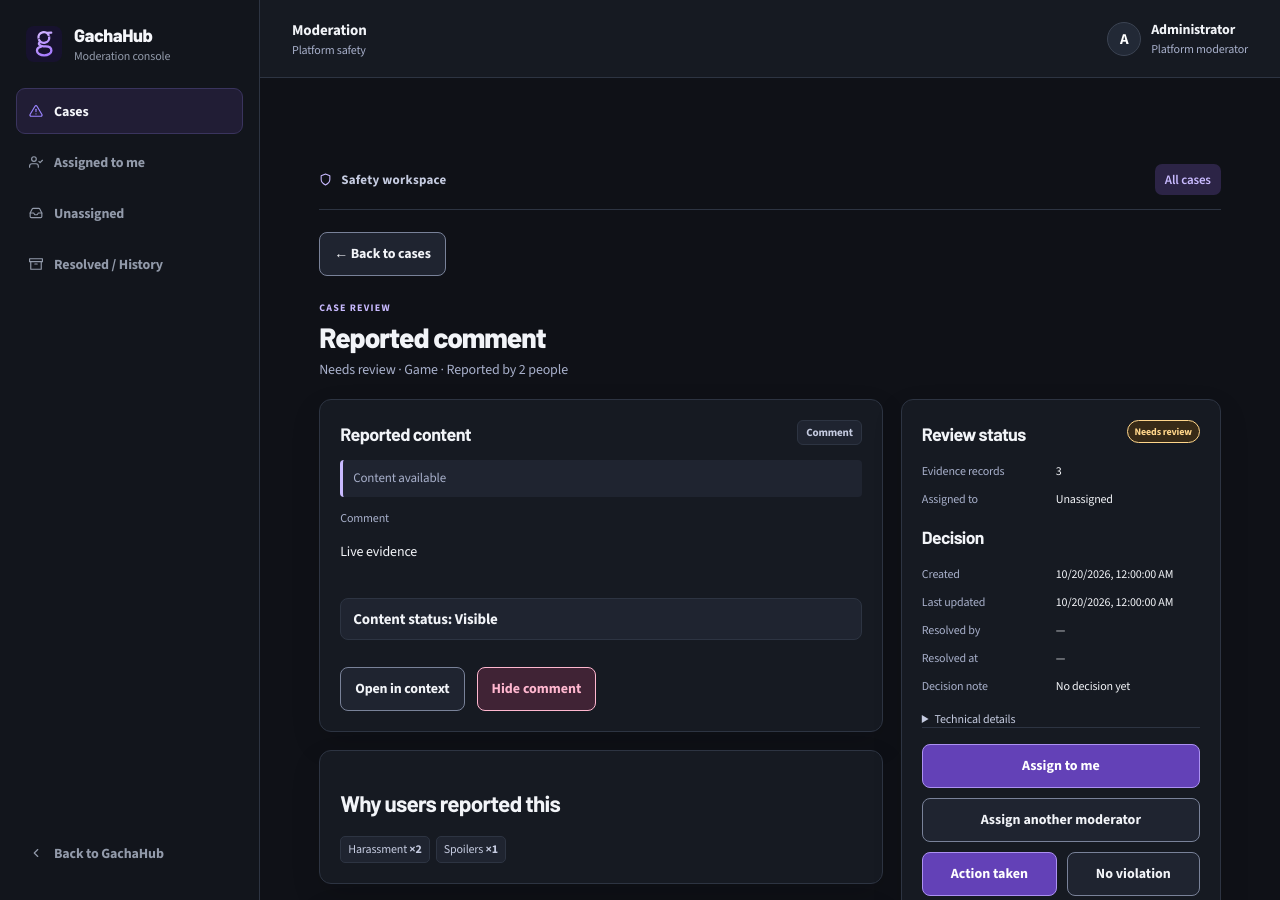
Scenario: opens COMMENT context and confirms hide/restore independently of the case decision
Click the button "Hide comment". click: (536, 689)
box: top-left (476, 667), bottom-right (596, 711)
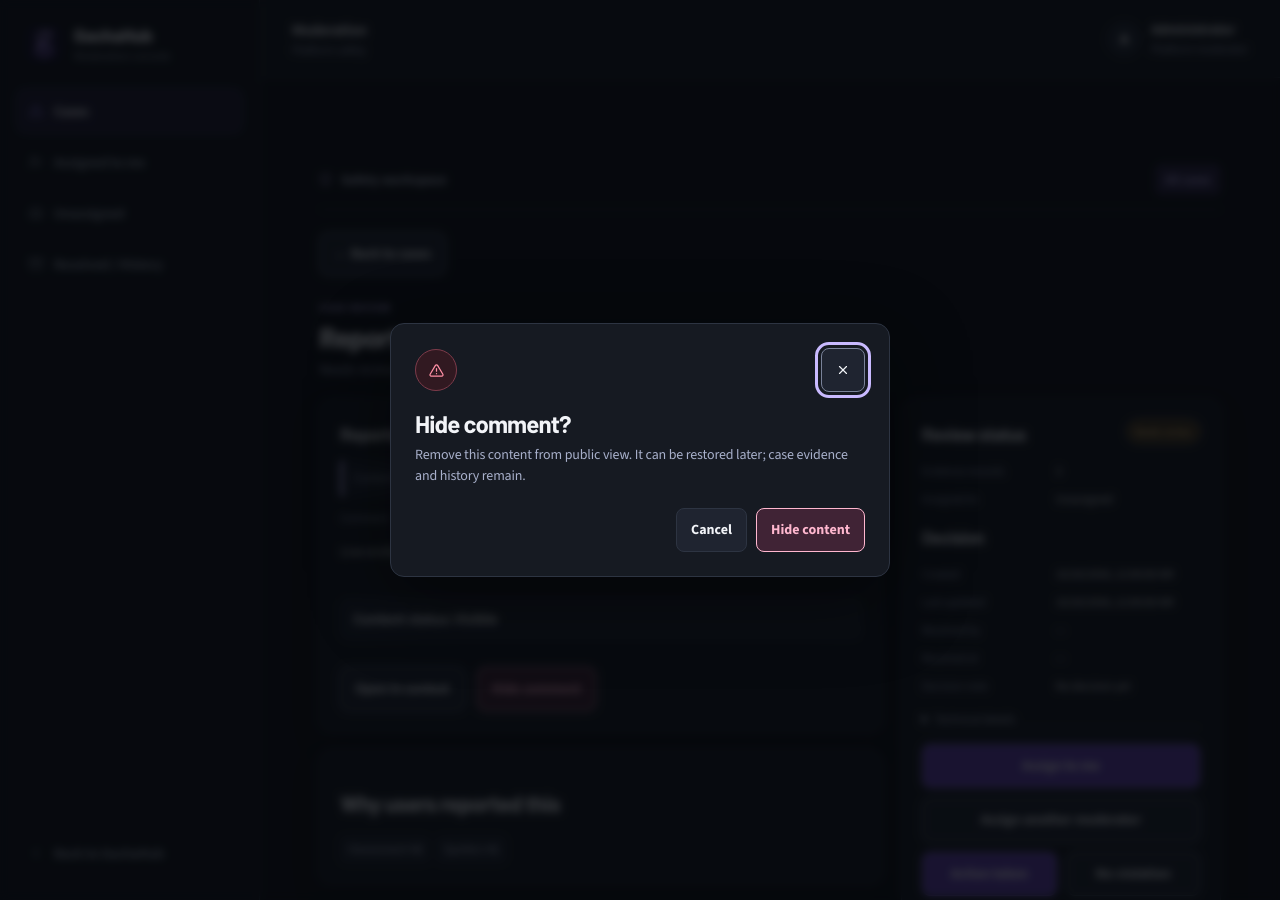
Click the button "Hide content". click: (810, 530)
box: top-left (756, 508), bottom-right (865, 552)
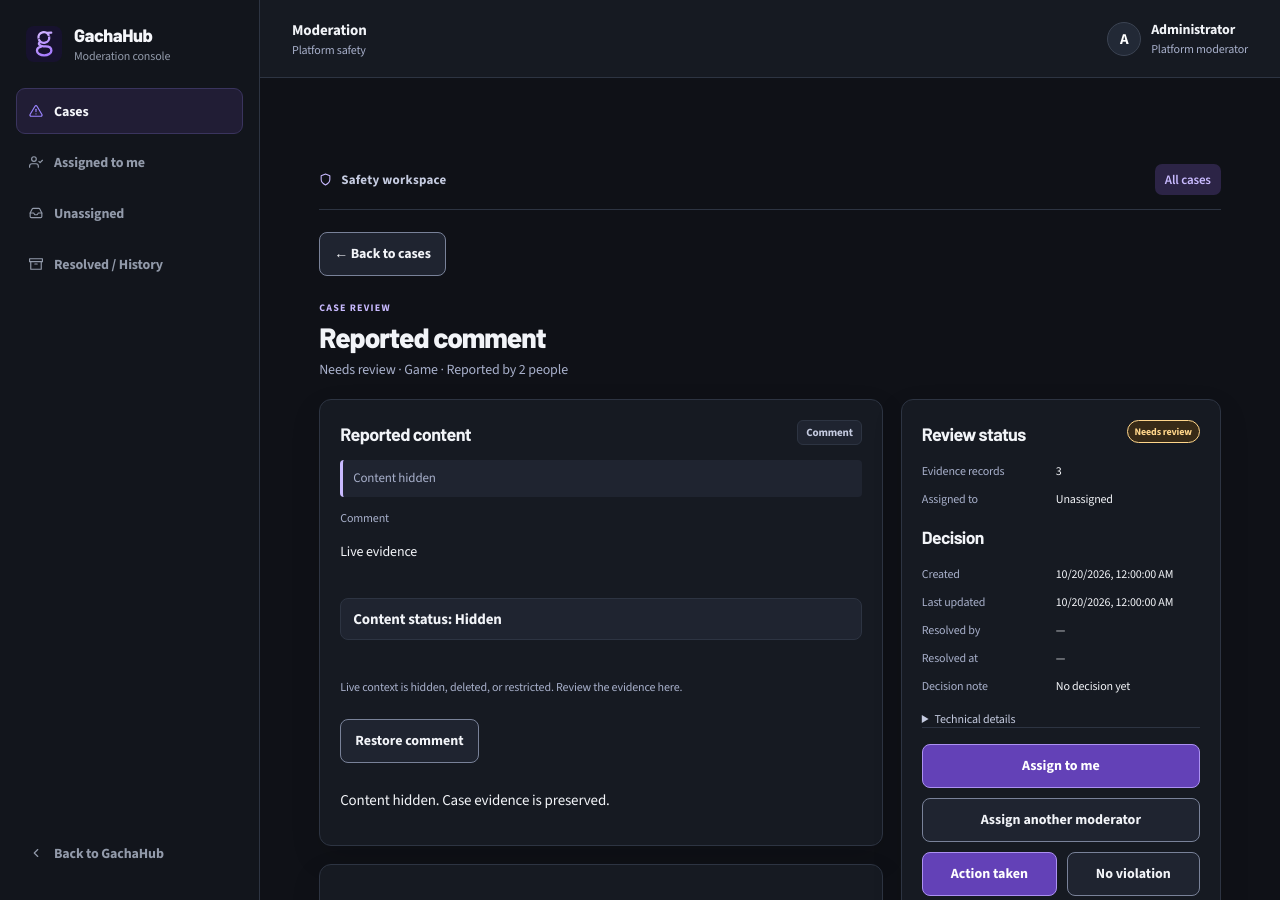
Expected: the text "Content status: Hidden" is shown, top-left (340, 598), bottom-right (862, 640)
Expected: the link "Open in context" is gone
Click the button "Restore comment". click: (409, 741)
box: top-left (340, 719), bottom-right (479, 763)
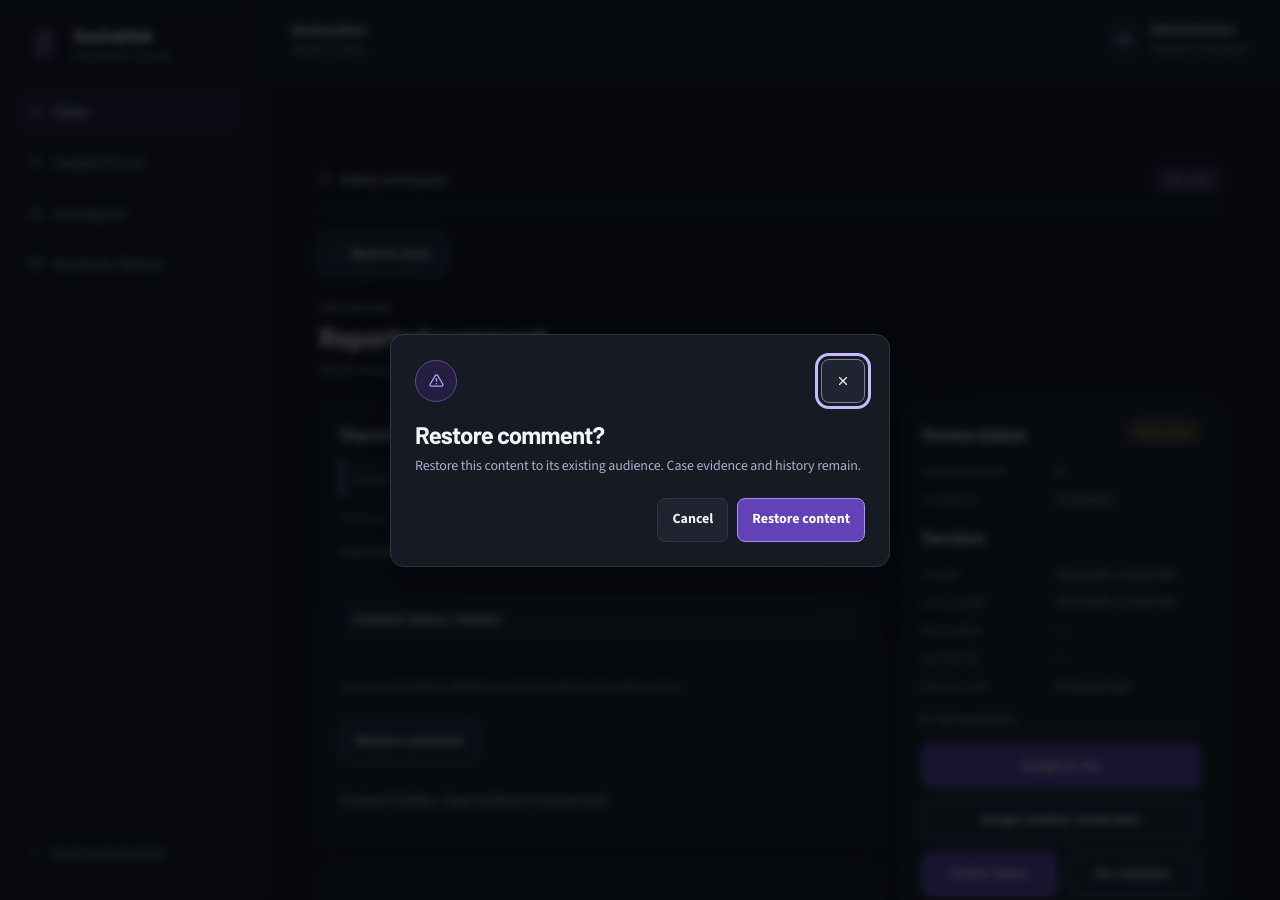
Click the button "Restore content". click: (801, 520)
box: top-left (737, 498), bottom-right (865, 542)
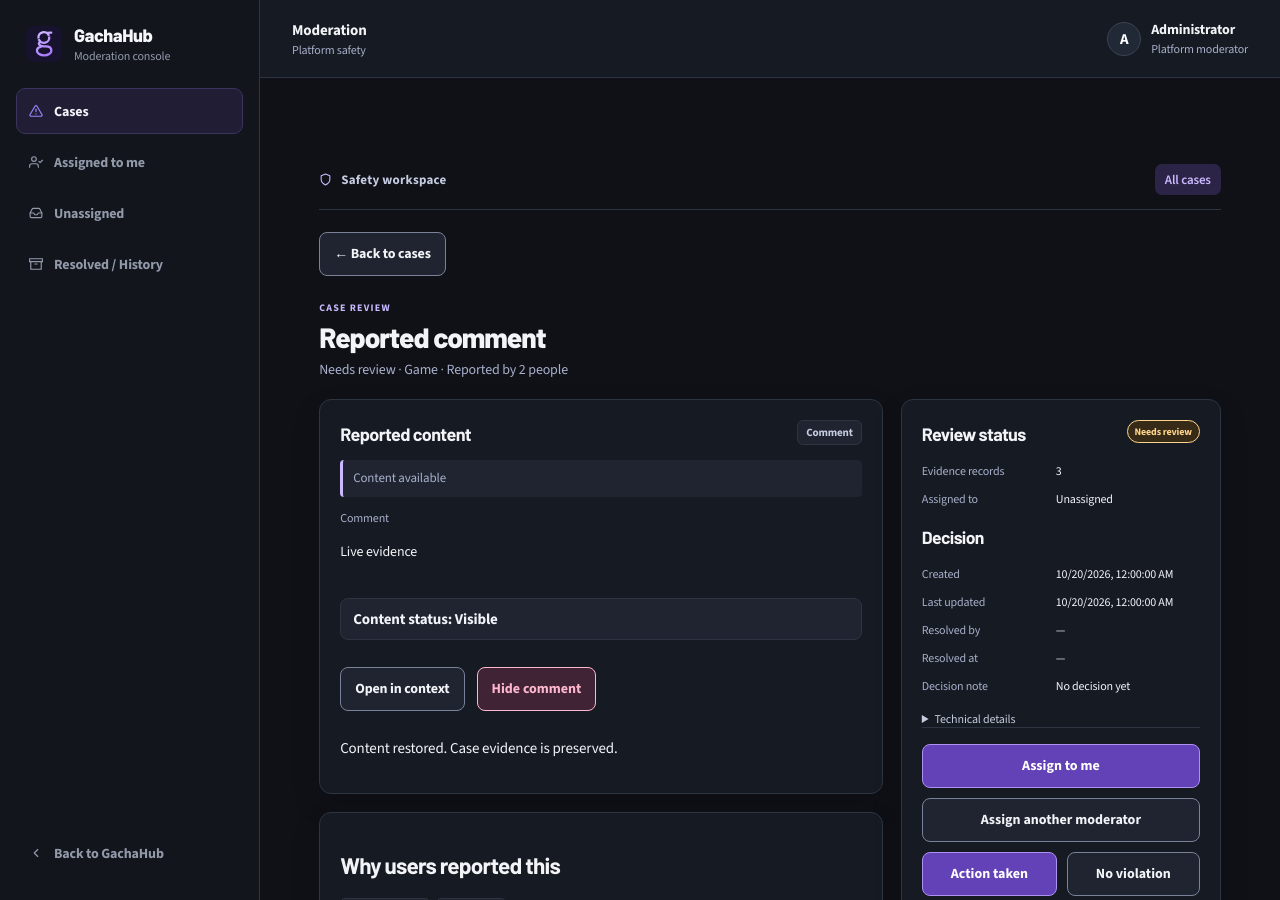
Expected: the text "Content status: Visible" is shown, top-left (340, 598), bottom-right (862, 640)
